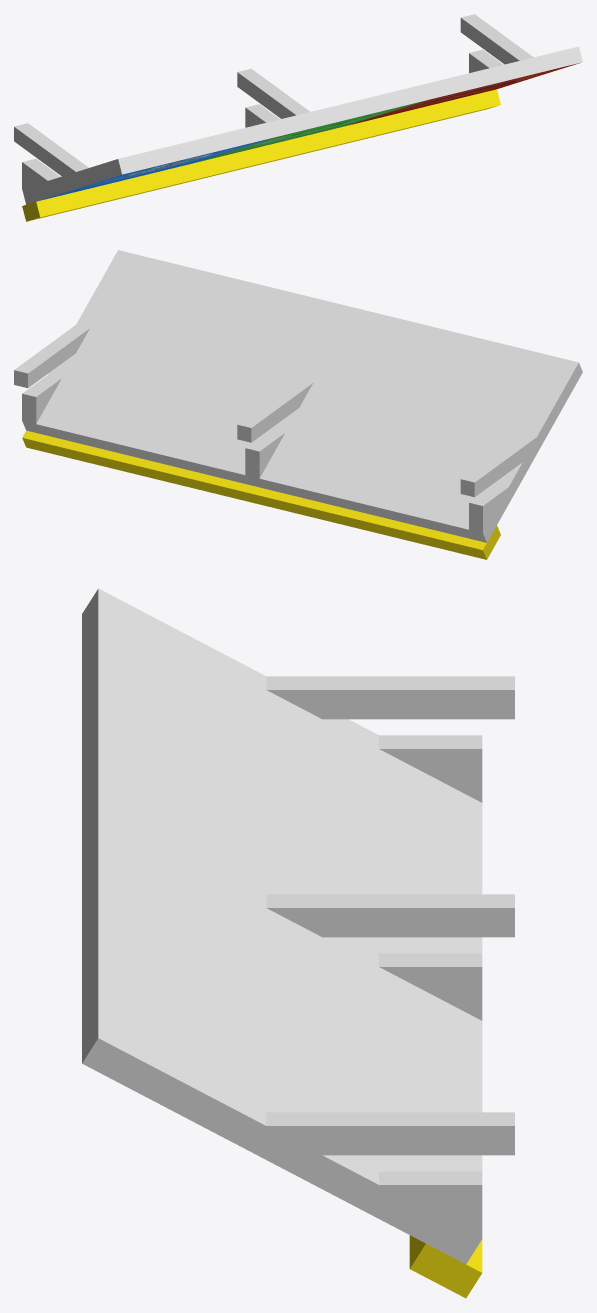
The model's file is gallery_yellow.glb.
3 renders of one model, top to bottom at view 1: azimuth 30°, elevation 25°; view 2: azimuth 150°, elevation 25°; view 3: azimuth 270°, elevation 25°, orthographic. The views are drawn at different scales.
Visible parts, largest first — view 1: FRISE, BORDURE, Corps1_21_, Corps1_20_, Corps1_20__1, Corps1_20__2, TRIANGLE_GAUCHE, TRIANGLE_CENTRE, TRIANGLE_DROIT; view 2: FRISE, BORDURE, Corps1_20_, Corps1_20__2, Corps1_20__1, TRIANGLE_CENTRE, TRIANGLE_DROIT, TRIANGLE_GAUCHE; view 3: FRISE, Corps1_20_, Corps1_20__1, Corps1_20__2, TRIANGLE_DROIT, TRIANGLE_GAUCHE, TRIANGLE_CENTRE, BORDURE.
Part boxes in pixels (left/top/right/bottom): FRISE: left=22, top=46, right=582, bottom=204; BORDURE: left=22, top=89, right=500, bottom=221; Corps1_21_: left=39, top=62, right=580, bottom=200; Corps1_20_: left=14, top=123, right=88, bottom=176; Corps1_20__1: left=460, top=14, right=533, bottom=64; Corps1_20__2: left=237, top=68, right=309, bottom=118; TRIANGLE_GAUCHE: left=22, top=158, right=60, bottom=188; TRIANGLE_CENTRE: left=245, top=104, right=279, bottom=127; TRIANGLE_DROIT: left=469, top=49, right=503, bottom=72; FRISE: left=22, top=250, right=582, bottom=542; BORDURE: left=22, top=430, right=500, bottom=559; Corps1_20_: left=460, top=433, right=536, bottom=497; Corps1_20__2: left=237, top=379, right=313, bottom=442; Corps1_20__1: left=14, top=324, right=89, bottom=388; TRIANGLE_CENTRE: left=245, top=429, right=284, bottom=478; TRIANGLE_DROIT: left=22, top=375, right=61, bottom=423; TRIANGLE_GAUCHE: left=469, top=484, right=508, bottom=532; FRISE: left=82, top=588, right=482, bottom=1264; Corps1_20_: left=266, top=676, right=514, bottom=719; Corps1_20__1: left=266, top=1112, right=514, bottom=1155; Corps1_20__2: left=266, top=894, right=514, bottom=937; TRIANGLE_DROIT: left=379, top=1171, right=482, bottom=1238; TRIANGLE_GAUCHE: left=379, top=735, right=482, bottom=802; TRIANGLE_CENTRE: left=379, top=953, right=482, bottom=1020; BORDURE: left=409, top=1235, right=482, bottom=1298.
Size of the model in its own units: 0.72 by 0.1945 by 0.2928.
2 materials, 1 textured.
